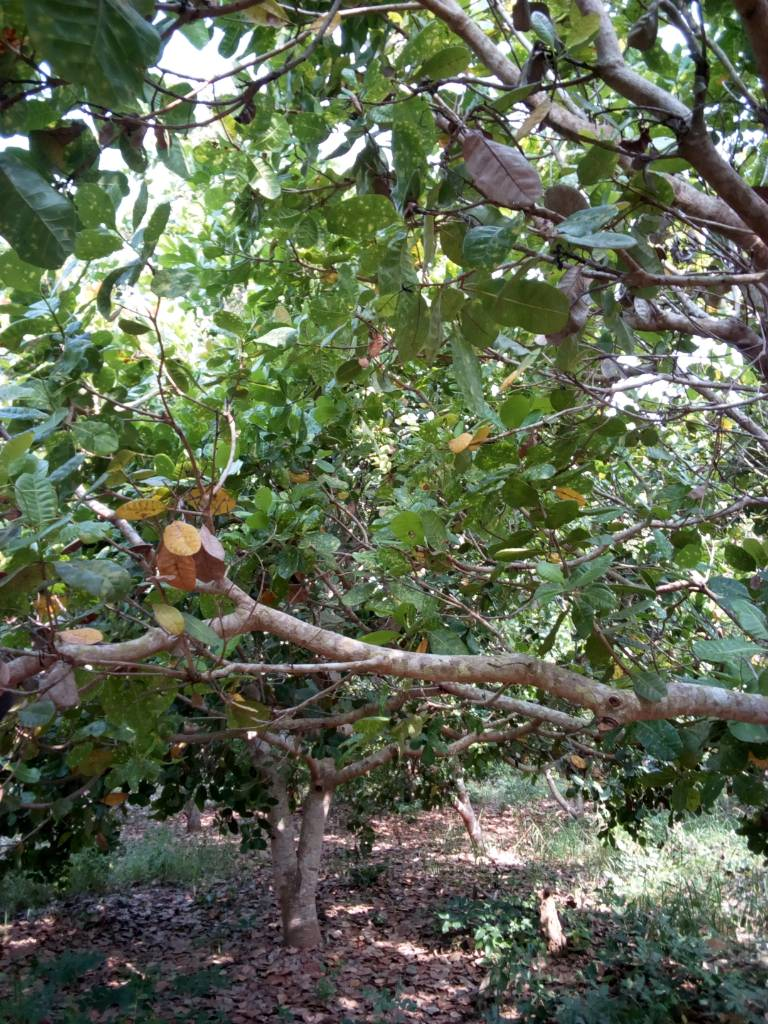Dessèchement des bourgeons: (616, 70, 706, 166), (516, 42, 594, 95)
